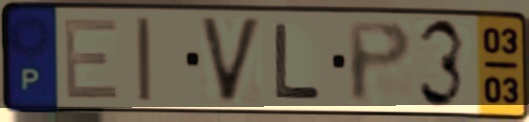3: (413, 16, 476, 111)
E: (60, 15, 123, 103)
I: (132, 14, 155, 105)
L: (271, 20, 325, 102)
P: (344, 18, 416, 107)
V: (196, 14, 266, 107)
